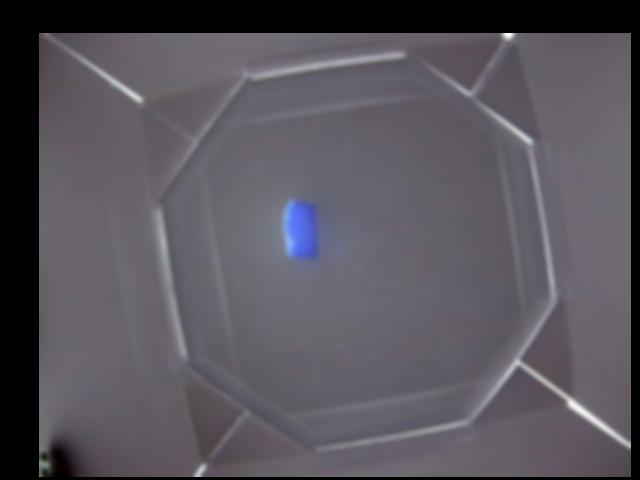Potato: (279, 197, 320, 258)
